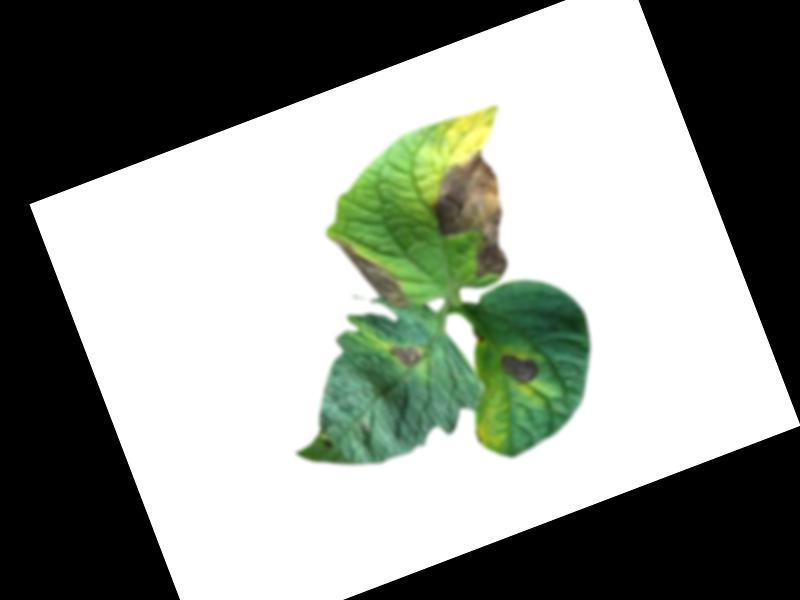Early_blight: (416, 147, 530, 292), (326, 224, 409, 325), (495, 343, 543, 391), (386, 337, 424, 372), (319, 435, 334, 452)
